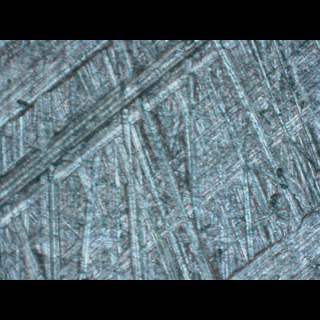d: (0, 39, 236, 237), (220, 206, 319, 279)
